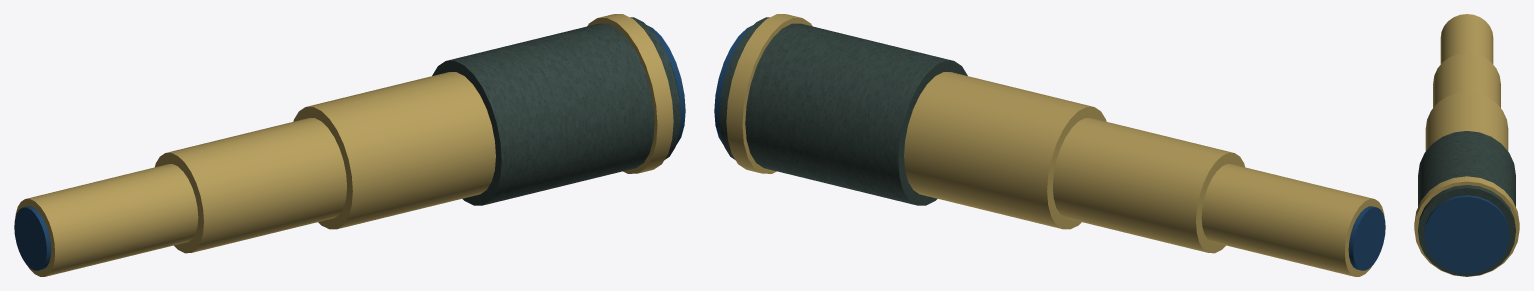
Rendered from spyglass.glb.
3 renders of one model, left to right at view 1: azimuth 30°, elevation 25°; view 2: azimuth 150°, elevation 25°; view 3: azimuth 270°, elevation 25°, orthographic. The views are drawn at different scales.
Parts seen in each view (by area): view 1: spyglass; view 2: spyglass; view 3: spyglass.
Part boxes in pixels (x1,y1,x2,y2): spyglass: [14, 14, 685, 276]; spyglass: [714, 14, 1385, 276]; spyglass: [1414, 14, 1519, 276].
Size of the model in its own units: 0.38 by 0.085 by 0.085.
Materials: 3 (1 with a texture image).
